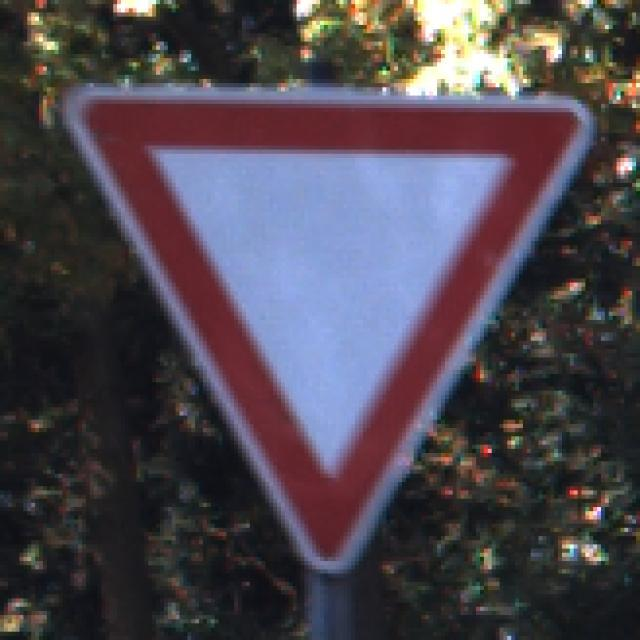give way: (63, 76, 595, 580)
